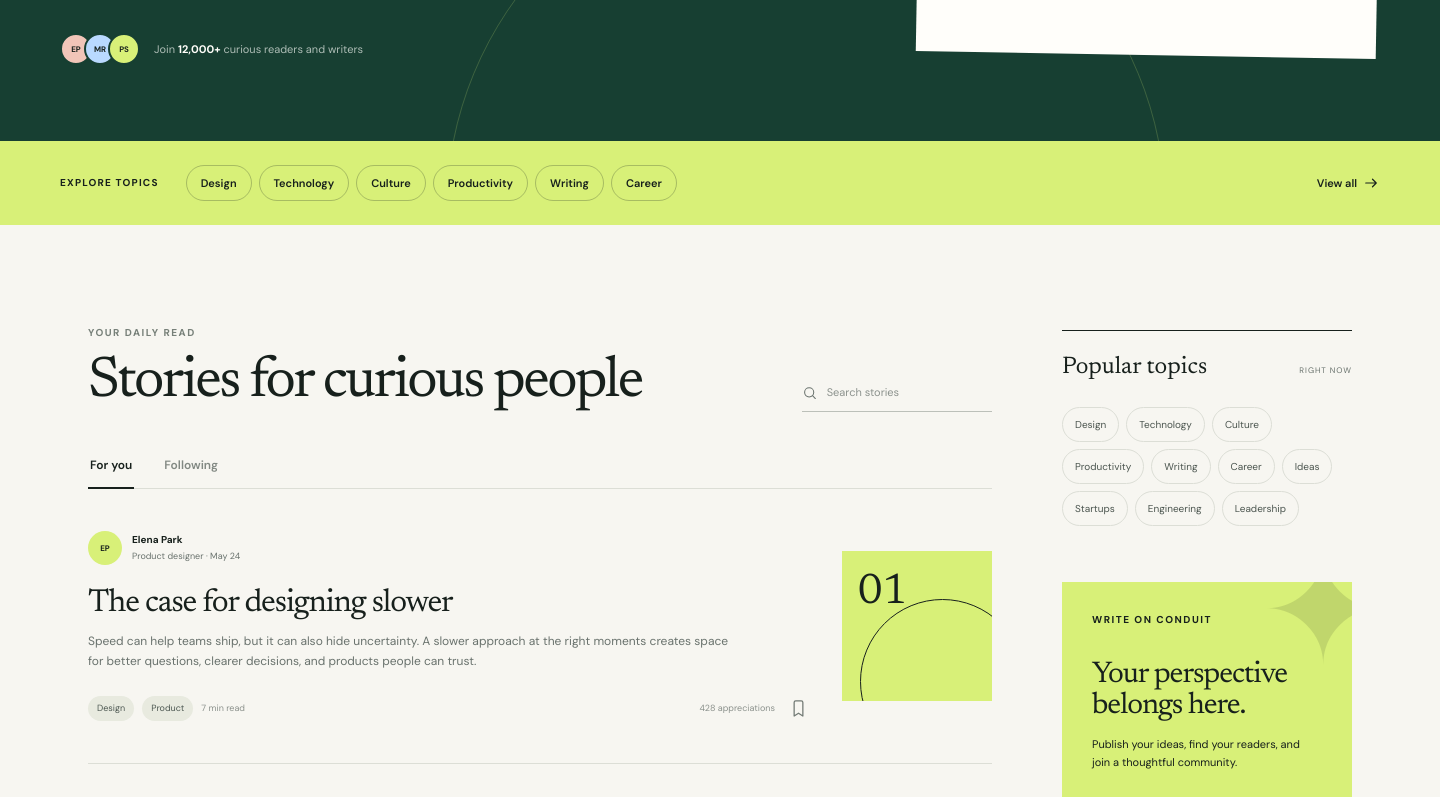
Test: App › shows the empty state when search has no matches
The image size is (1440, 797).
(page scrolled)
Type "zzzz-not-a-story" into the search field with placeholder "Search stories" at (909, 393), box [827,384,992,401]
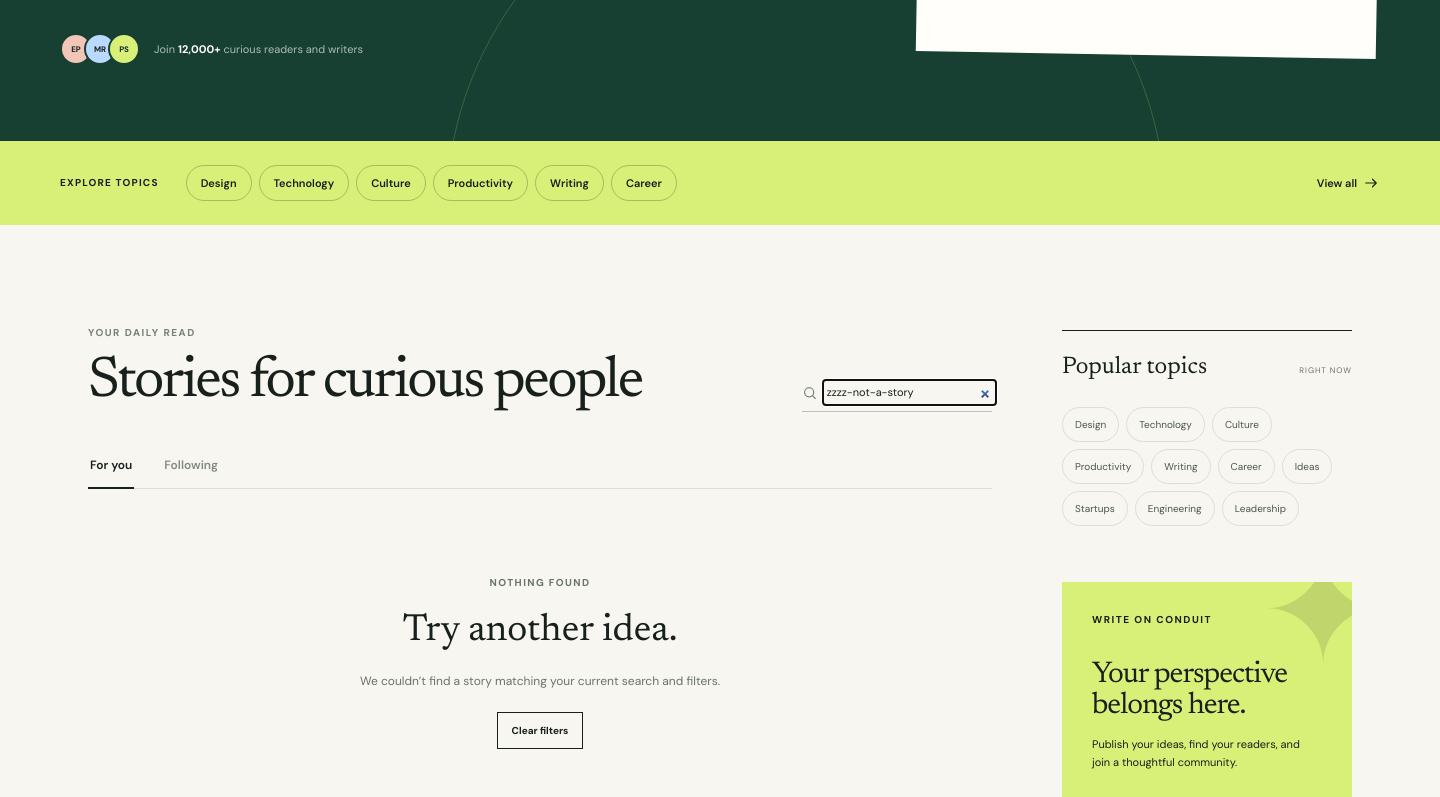
expect the heading "Try another idea." is shown: met, box [402,612,678,650]
